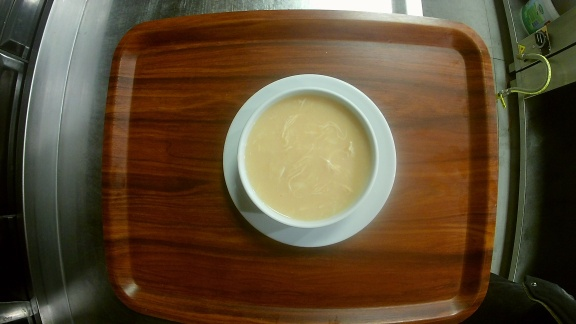tavukcorba: (222, 72, 398, 249)
